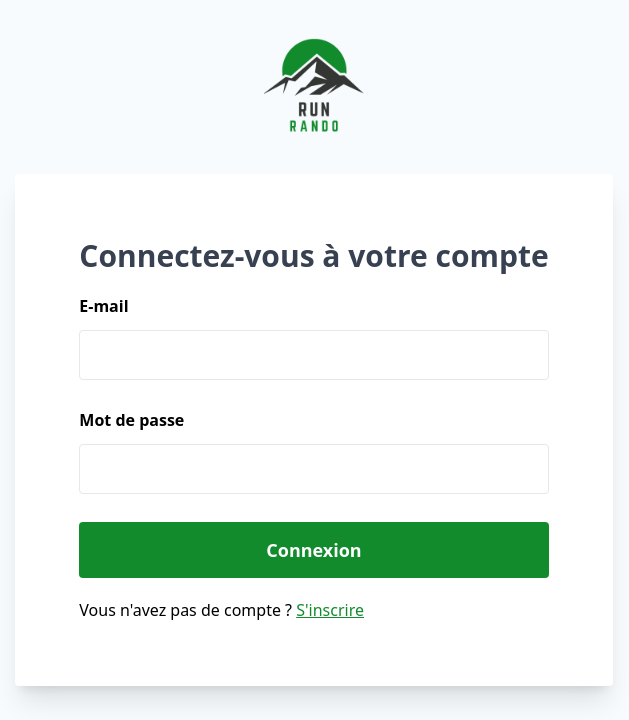
Login proccess › should renders 2 error messages if the user tries to submit the form with wrong credentials
The width and height of the screenshot is (629, 720).
Type "iongae" into the field labelled "E-mail" at (314, 355), box [79, 330, 548, 380]
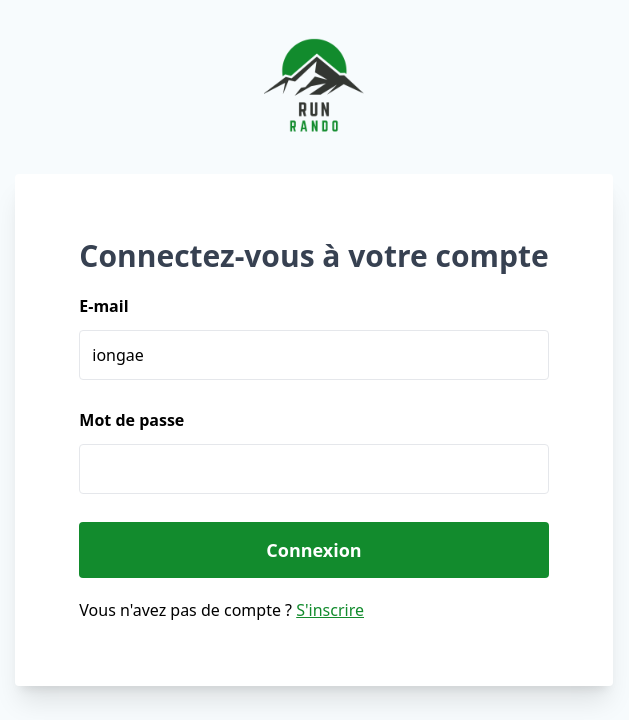
Type "1234" into the password field labelled "Mot de passe" at (314, 469), box [79, 444, 548, 494]
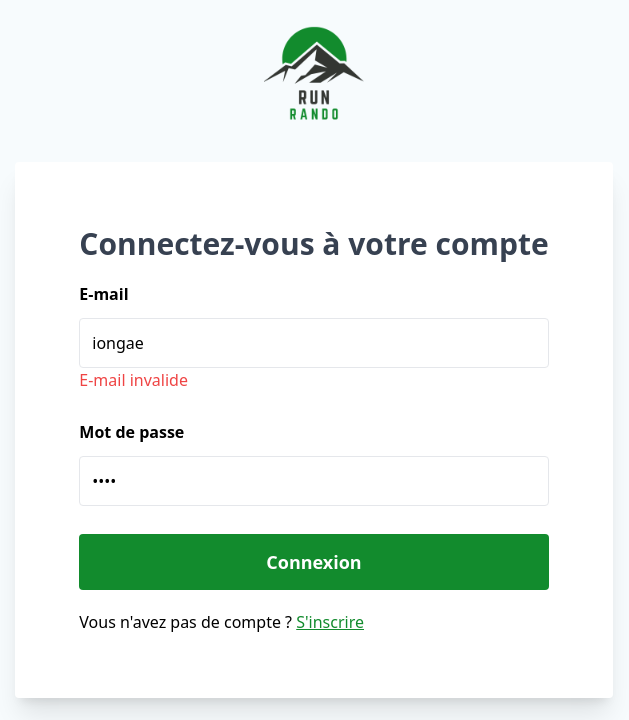
Click the button "Connexion" at (314, 562), box [79, 534, 548, 590]
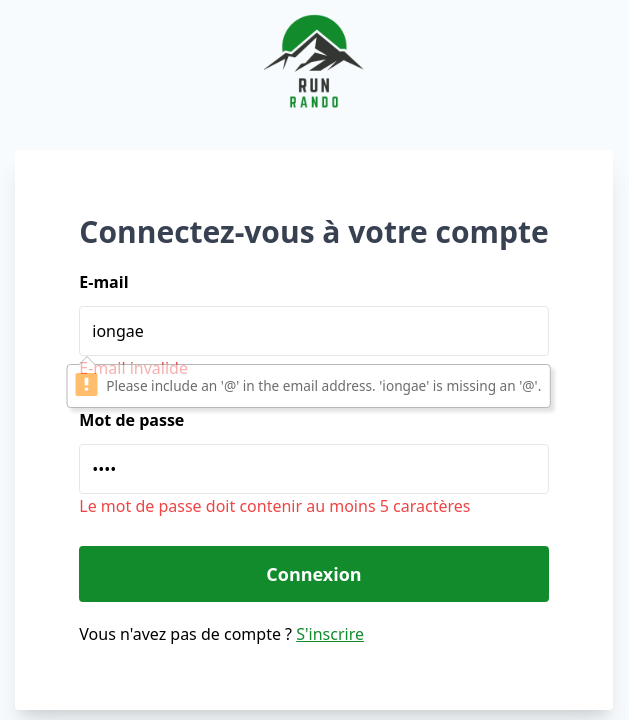
Expected: the text with test id "inputErr" reads "E-mail invalide", [79, 357, 188, 379]
Expected: the text with test id "inputErr" reads "Le mot de passe doit contenir au moins 5 caractères", [79, 495, 470, 517]
